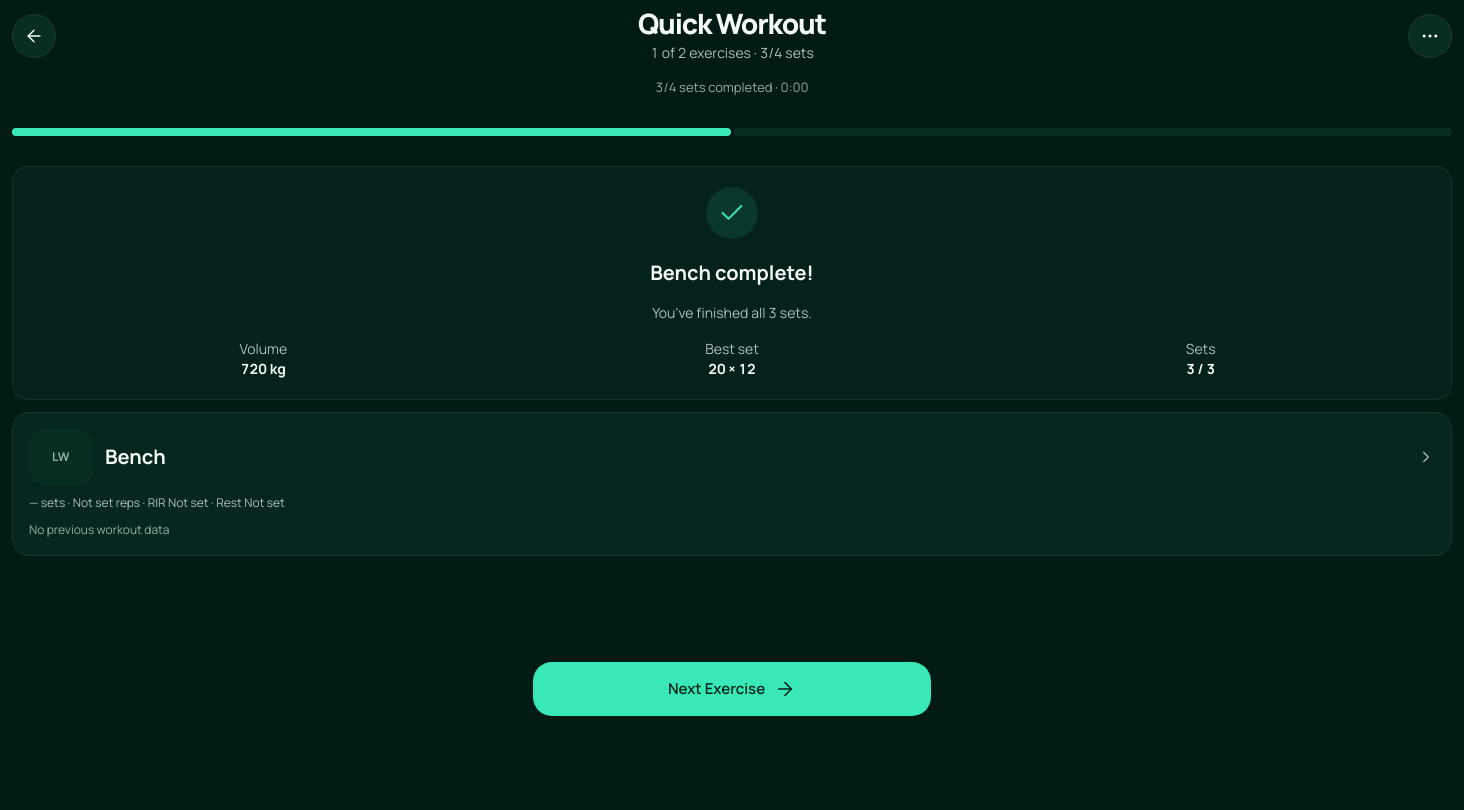
Test: canonical workout V2 journey › shows exercise completion without rest and selects the next unfinished exercise
The image size is (1464, 810).
Expected: the heading "Quick Workout" is shown, x1=638 y1=4 x2=826 y2=42
Expected: the element named "Exercise complete" is shown, x1=12 y1=166 x2=1452 y2=400
Click the button "Next Exercise" at (732, 689), box x1=533 y1=662 x2=931 y2=716
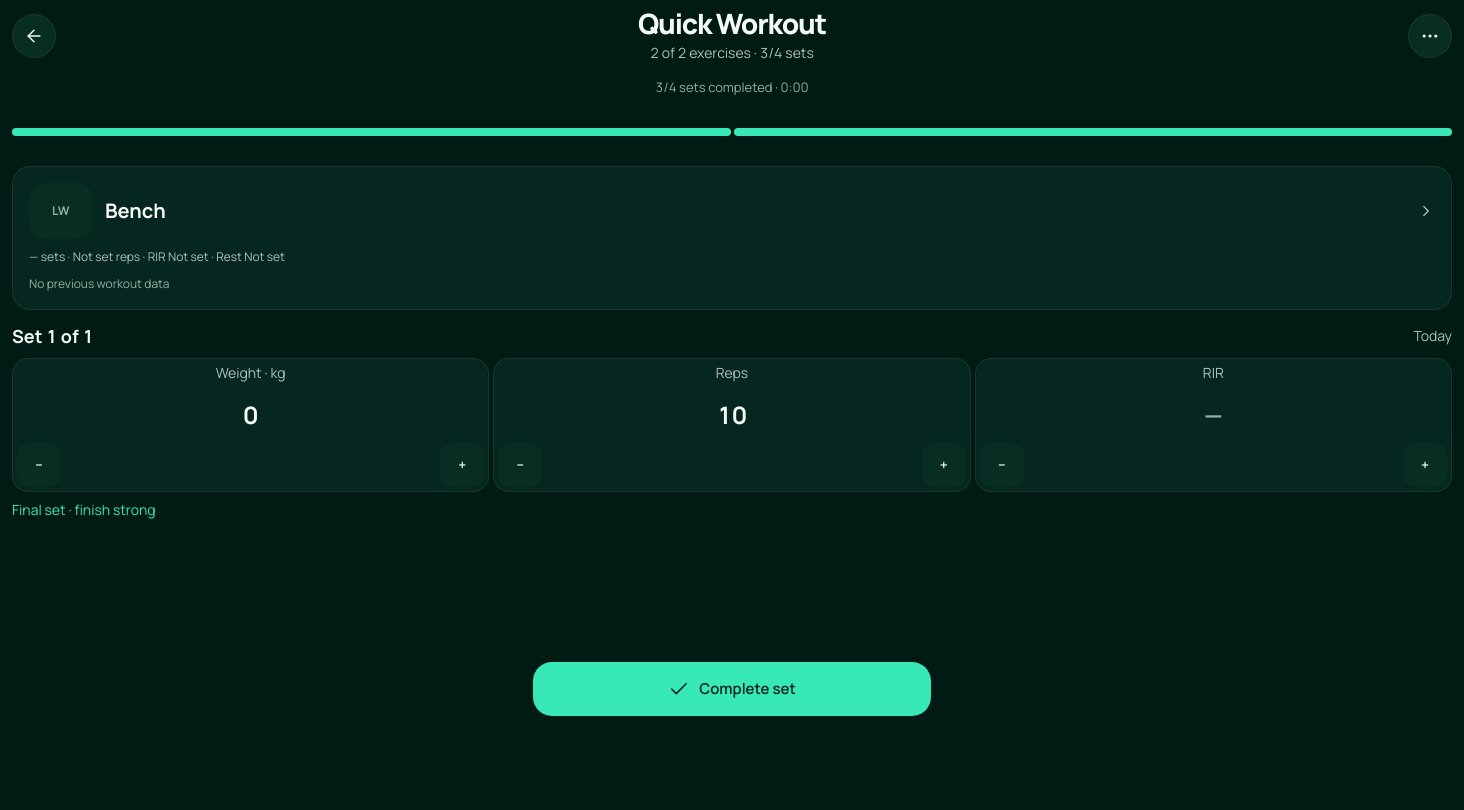
Now the button "Complete set" is shown, box x1=533 y1=662 x2=931 y2=716
